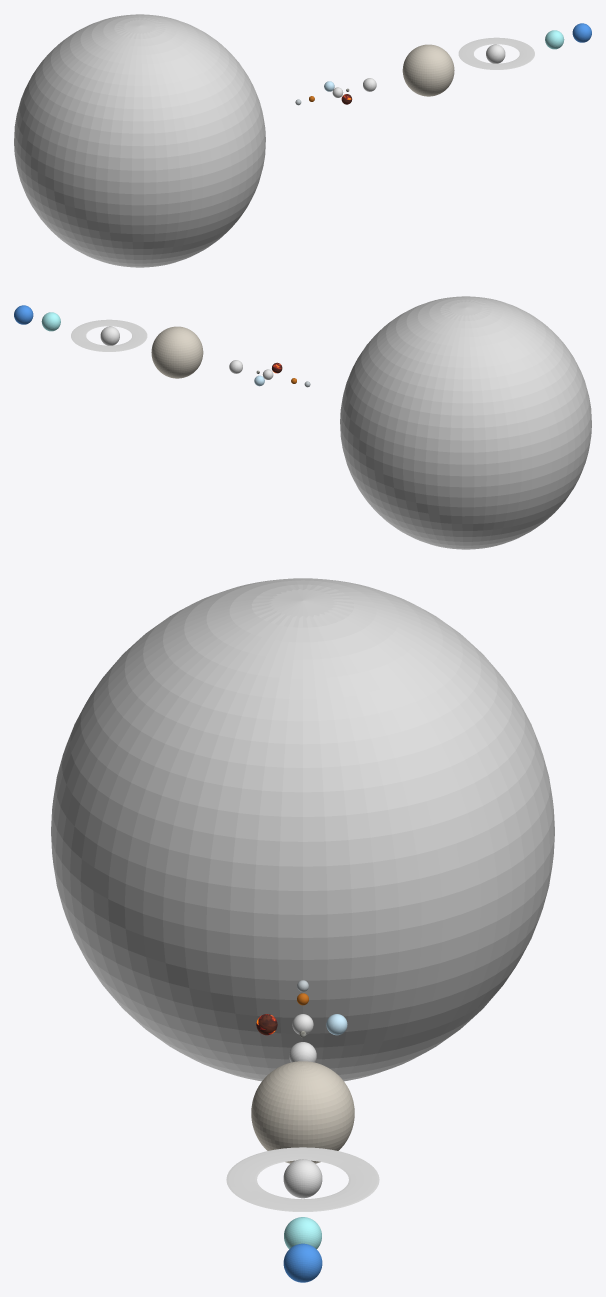
The model's file is SISTEMA SOLAR 2.fbx.
3 views of the same model, one above another, from view 1: azimuth 30°, elevation 25°; view 2: azimuth 150°, elevation 25°; view 3: azimuth 270°, elevation 25° (orthographic). The views are drawn at different scales.
Parts seen in each view (by area): view 1: Esfera, Esfera.006, Rosca; view 2: Esfera, Esfera.006, Rosca; view 3: Esfera, Esfera.006, Rosca, Esfera.005, Esfera.007, Esfera.008.
Boxes of the visible parts, x1,y1,x2,y2 form: Esfera: [14, 14, 265, 267]; Esfera.006: [402, 44, 454, 96]; Rosca: [458, 37, 534, 69]; Esfera: [340, 296, 591, 549]; Esfera.006: [151, 326, 203, 378]; Rosca: [71, 319, 147, 351]; Esfera: [51, 578, 554, 1081]; Esfera.006: [251, 1061, 354, 1163]; Rosca: [226, 1147, 379, 1211]; Esfera.005: [283, 1159, 322, 1198]; Esfera.007: [283, 1243, 322, 1282]; Esfera.008: [284, 1217, 321, 1249].
Bounding box in the file's own units: 1797 × 708 × 701.
12 materials, 2 textured.
